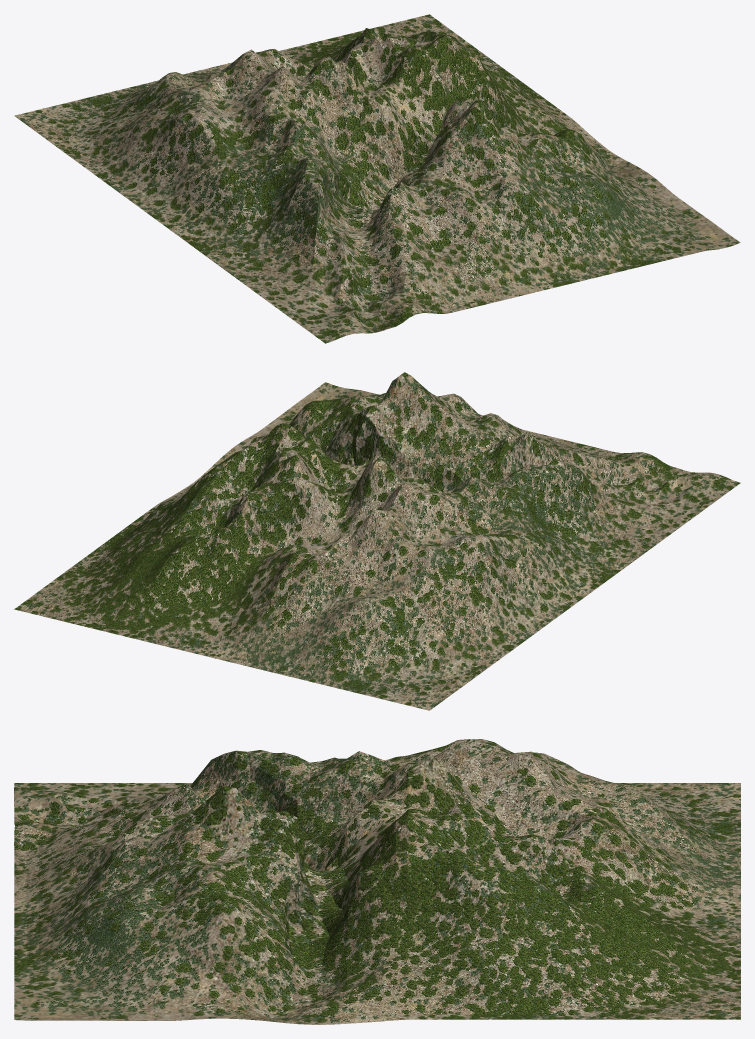
File: mount.blend1.obj
3 renders of one model, top to bottom at view 1: azimuth 30°, elevation 25°; view 2: azimuth 150°, elevation 25°; view 3: azimuth 270°, elevation 25°, orthographic. The views are drawn at different scales.
Visible parts, largest first — view 1: Landscape; view 2: Landscape; view 3: Landscape.
Part boxes in pixels (<box>): Landscape: <box>14,14,740,343</box>; Landscape: <box>14,372,740,710</box>; Landscape: <box>14,739,740,1024</box>.
Bounding box in the file's own units: 6.47 × 1.88 × 8.39.
1 material, 1 textured.
